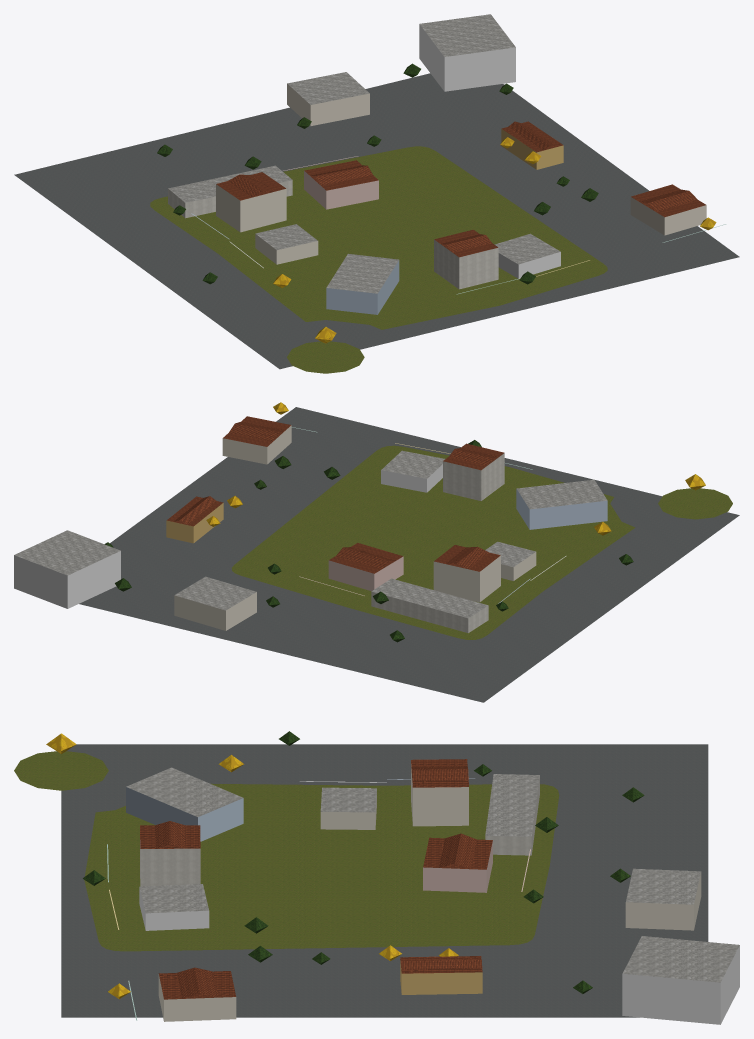
The model's file is cidade_S01_06_lod.gltf.
3 views of the same model, one above another, from view 1: azimuth 30°, elevation 25°; view 2: azimuth 150°, elevation 25°; view 3: azimuth 270°, elevation 25° (orthographic). The views are drawn at different scales.
Visible parts, largest first — view 1: S01_06_Chao_LOD2, S01_06_Edificios_LOD1, S01_06_Silhueta_LOD2, S01_06_Vegetacao_LOD2; view 2: S01_06_Chao_LOD2, S01_06_Edificios_LOD1, S01_06_Silhueta_LOD2, S01_06_Vegetacao_LOD2; view 3: S01_06_Chao_LOD2, S01_06_Edificios_LOD1, S01_06_Silhueta_LOD2, S01_06_Vegetacao_LOD2.
Part boxes in pixels (box(x1,y1,x2,y2)): S01_06_Chao_LOD2: box(14, 73, 739, 373); S01_06_Edificios_LOD1: box(168, 14, 726, 314); S01_06_Silhueta_LOD2: box(216, 121, 706, 289); S01_06_Vegetacao_LOD2: box(157, 63, 716, 343); S01_06_Chao_LOD2: box(79, 407, 739, 702); S01_06_Edificios_LOD1: box(14, 421, 607, 633); S01_06_Silhueta_LOD2: box(166, 416, 504, 601); S01_06_Vegetacao_LOD2: box(104, 402, 705, 642); S01_06_Chao_LOD2: box(14, 744, 708, 1017); S01_06_Edificios_LOD1: box(107, 766, 739, 1024); S01_06_Silhueta_LOD2: box(140, 759, 492, 1021); S01_06_Vegetacao_LOD2: box(46, 731, 644, 999).
Bounding box in the file's own units: 105 × 8.62 × 112.
Materials: 14 (14 with a texture image).
